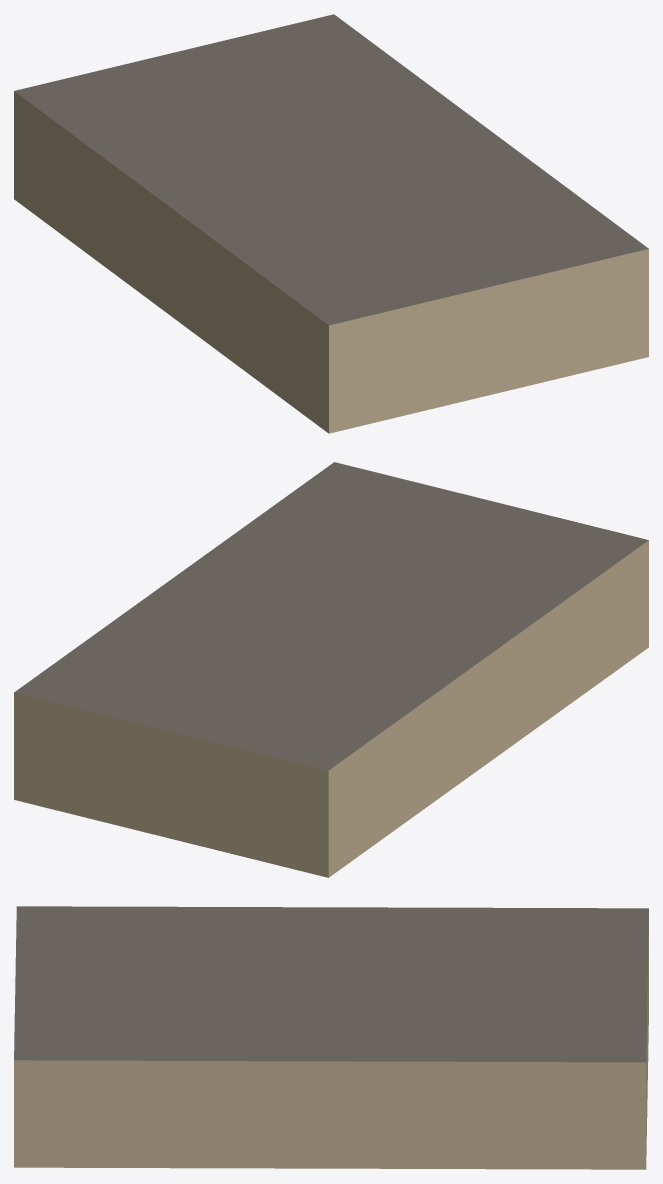
The picture shows the model from 3 angles, top to bottom: view 1: azimuth 30°, elevation 25°; view 2: azimuth 150°, elevation 25°; view 3: azimuth 270°, elevation 25°; orthographic projection.
Visible parts, largest first — view 1: HP-w206159773; view 2: HP-w206159773; view 3: HP-w206159773.
Boxes of the visible parts, box(x1,y1,x2,y2) form: HP-w206159773: box(14, 14, 648, 433); HP-w206159773: box(14, 462, 648, 877); HP-w206159773: box(14, 906, 648, 1169).
Bounding box in the file's own units: 31.22 × 10 × 53.66.
